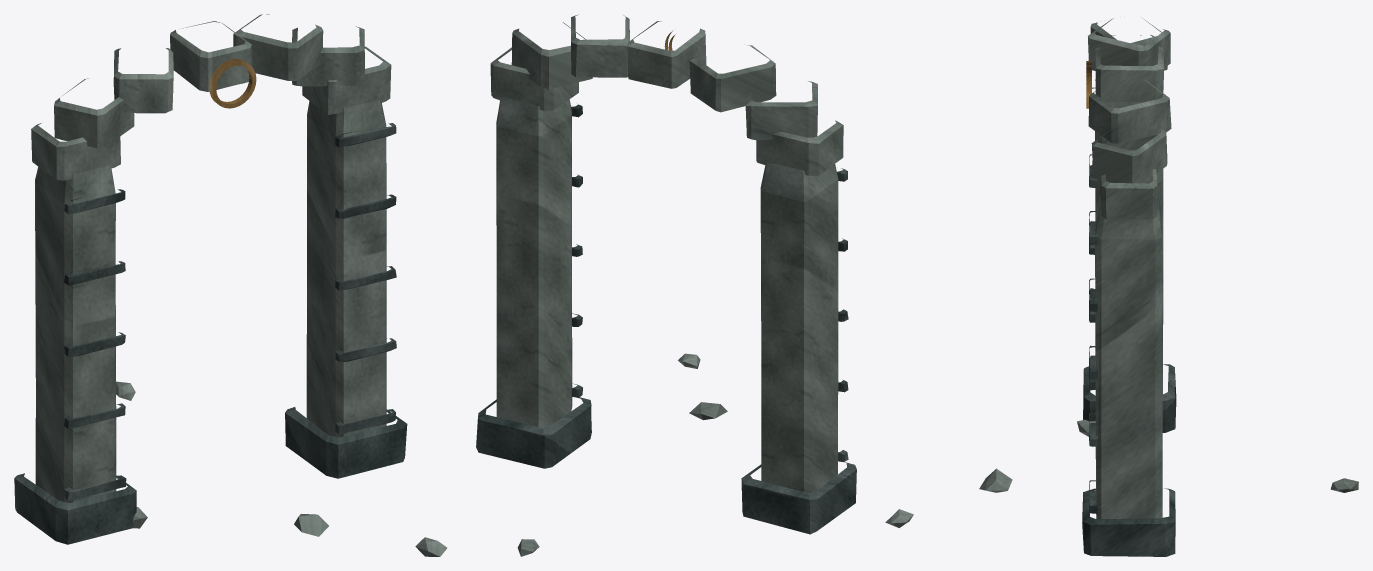
The model's file is 0303_archway_03.glb.
3 views of the same model, side by side, from view 1: azimuth 30°, elevation 25°; view 2: azimuth 150°, elevation 25°; view 3: azimuth 270°, elevation 25° (orthographic). The views are drawn at different scales.
Visible parts, largest first — view 1: stone, stone_dark, brass; view 2: stone, stone_dark; view 3: stone, stone_dark.
Boxes of the visible parts, <box> form: stone: <box>31,14,447,556</box>; stone_dark: <box>14,123,407,544</box>; brass: <box>209,59,256,108</box>; stone: <box>490,14,843,556</box>; stone_dark: <box>476,104,856,534</box>; stone: <box>885,17,1358,527</box>; stone_dark: <box>1082,87,1176,556</box>.
Bounding box in the file's own units: 3.5 × 4.33 × 4.36.
3 materials, 3 textured.
